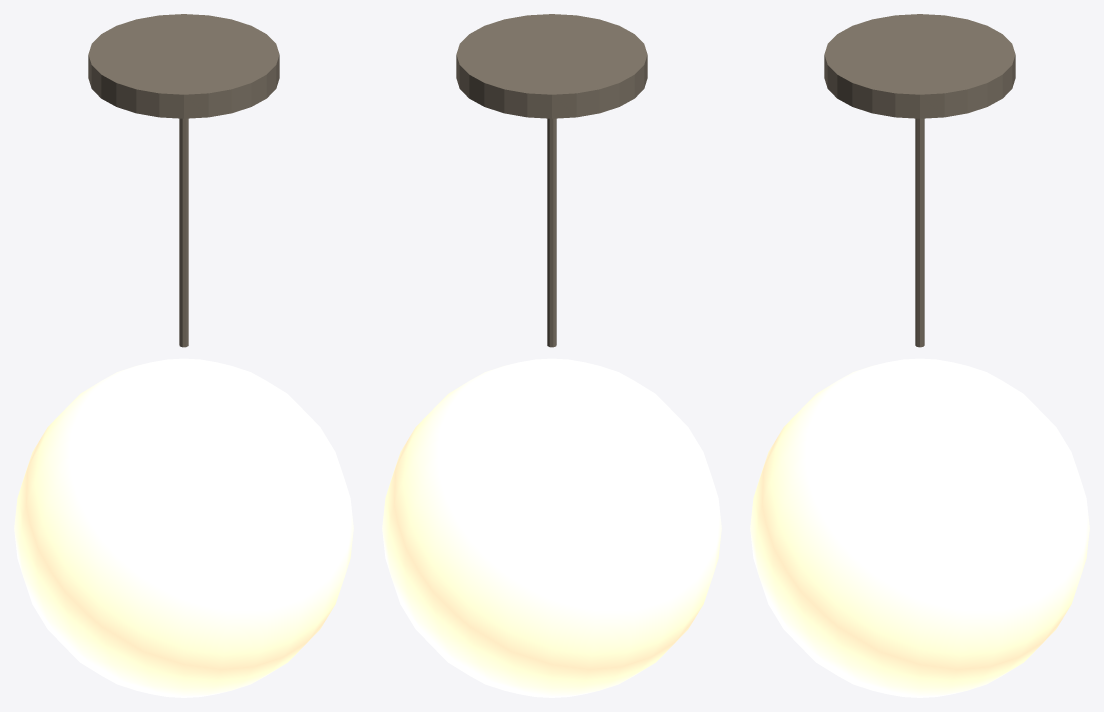
The model's file is opal-globe-pendant-v1.glb.
3 views of the same model, side by side, from view 1: azimuth 30°, elevation 25°; view 2: azimuth 150°, elevation 25°; view 3: azimuth 270°, elevation 25° (orthographic).
Parts seen in each view (by area): view 1: room03-opal-globe-pendant; view 2: room03-opal-globe-pendant; view 3: room03-opal-globe-pendant.
Part boxes in pixels (box(x1,y1,x2,y2)): room03-opal-globe-pendant: box(14, 14, 353, 697); room03-opal-globe-pendant: box(382, 14, 721, 697); room03-opal-globe-pendant: box(750, 14, 1089, 697).
Size of the model in its own units: 0.32 by 0.6525 by 0.32.
